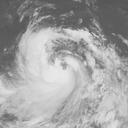cyclone: (12, 6, 111, 121)
